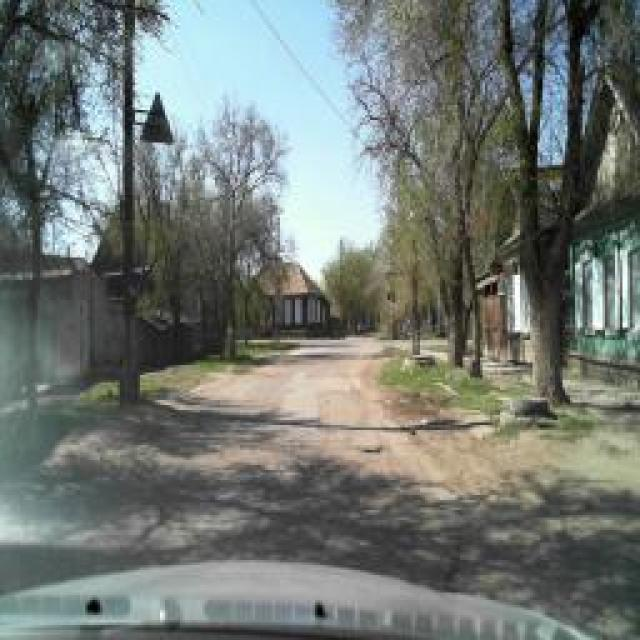sign: (388, 289, 398, 306)
